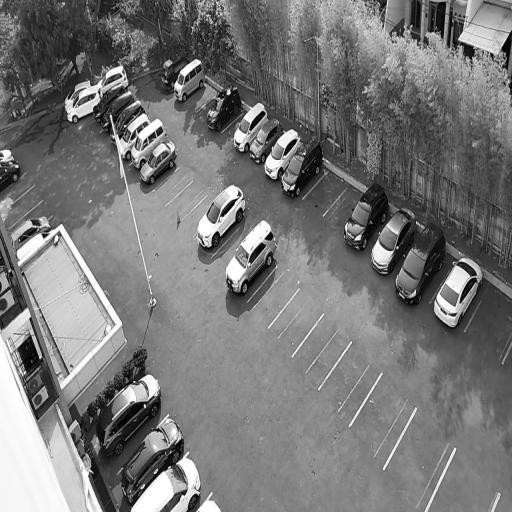Car: (118, 402, 191, 510), (91, 369, 169, 468), (388, 217, 454, 312), (128, 442, 213, 512), (428, 247, 489, 335), (220, 214, 282, 300), (364, 202, 422, 282), (192, 179, 251, 257), (340, 179, 394, 254), (279, 131, 329, 201), (127, 115, 171, 172), (261, 127, 305, 184), (231, 99, 272, 155), (202, 80, 245, 133), (138, 136, 180, 188), (247, 115, 285, 167), (107, 99, 147, 146), (171, 57, 209, 105), (115, 112, 151, 162), (99, 90, 137, 134), (8, 215, 53, 252), (91, 83, 128, 125), (66, 83, 104, 122), (159, 49, 190, 89), (96, 63, 131, 94), (63, 79, 92, 113), (0, 159, 25, 194), (196, 493, 225, 512), (0, 149, 17, 163)
Space Available: (383, 406, 456, 512), (348, 371, 417, 470), (318, 341, 382, 425), (426, 445, 499, 512), (292, 313, 351, 386), (268, 288, 324, 356), (465, 283, 512, 363), (248, 264, 300, 327), (303, 170, 349, 215), (0, 185, 43, 230), (324, 184, 363, 230), (210, 226, 247, 271), (153, 166, 194, 206), (165, 181, 207, 220), (8, 200, 51, 236), (0, 173, 35, 213), (180, 194, 212, 231), (185, 83, 218, 112), (220, 109, 247, 138), (197, 90, 221, 116)
